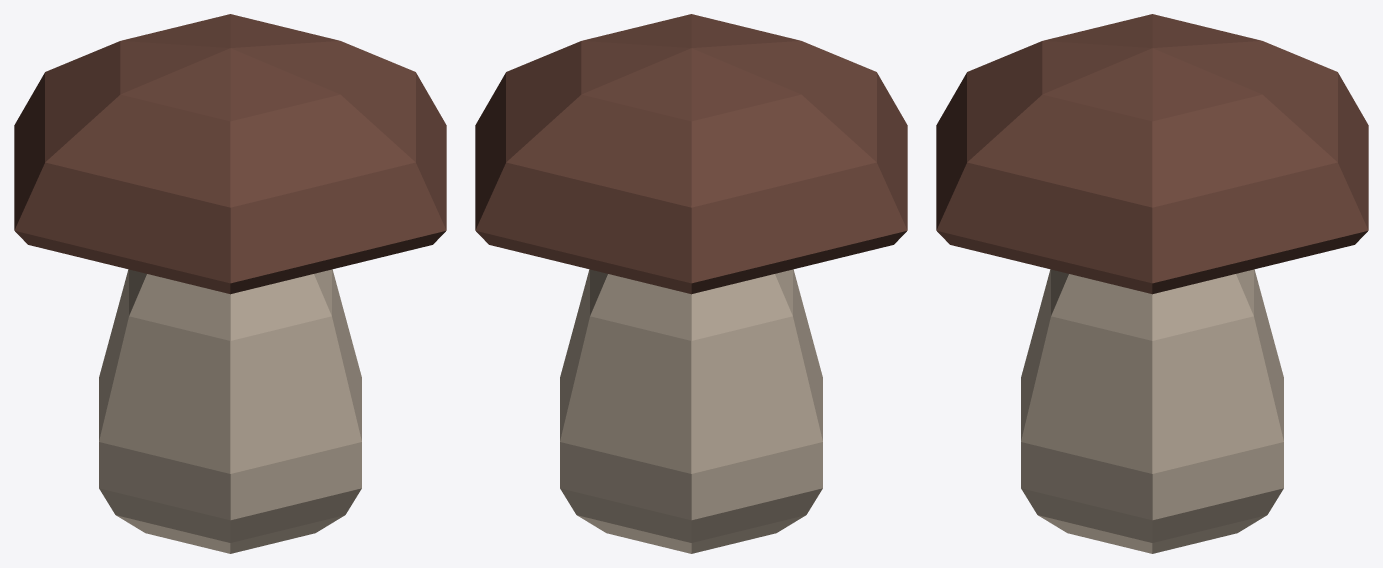
File: Boletus.fbx
3 views of the same model, side by side, from view 1: azimuth 30°, elevation 25°; view 2: azimuth 150°, elevation 25°; view 3: azimuth 270°, elevation 25° (orthographic).
Visible parts, largest first — view 1: Boletus; view 2: Boletus; view 3: Boletus.
Part boxes in pixels (left/top/right/bottom): Boletus: left=14, top=14, right=446, bottom=553; Boletus: left=475, top=14, right=907, bottom=553; Boletus: left=936, top=14, right=1368, bottom=553.
Size of the model in its own units: 0.5408 by 0.6245 by 0.641.
